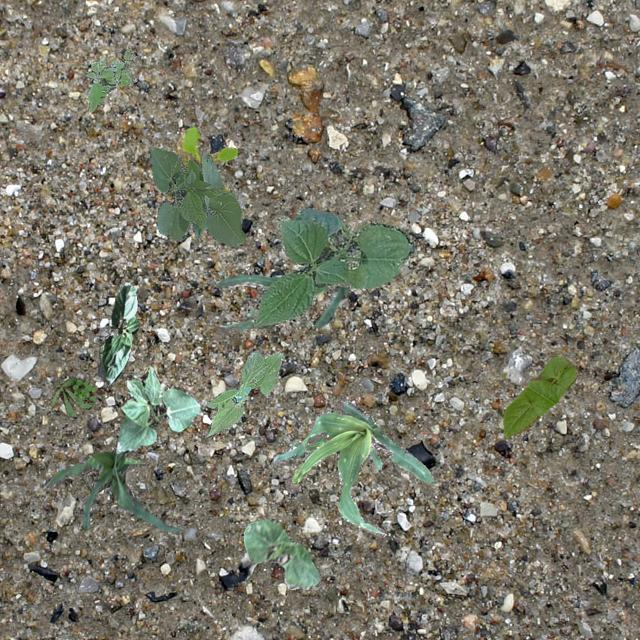crop: (273, 399, 432, 536), (252, 206, 414, 326), (39, 448, 180, 532), (148, 146, 244, 247), (114, 362, 200, 453), (215, 274, 347, 329), (205, 350, 282, 438), (502, 356, 576, 436), (242, 518, 320, 588), (98, 281, 138, 384), (288, 436, 380, 468)
weed: (176, 126, 237, 192), (85, 46, 136, 110), (48, 376, 96, 414)
